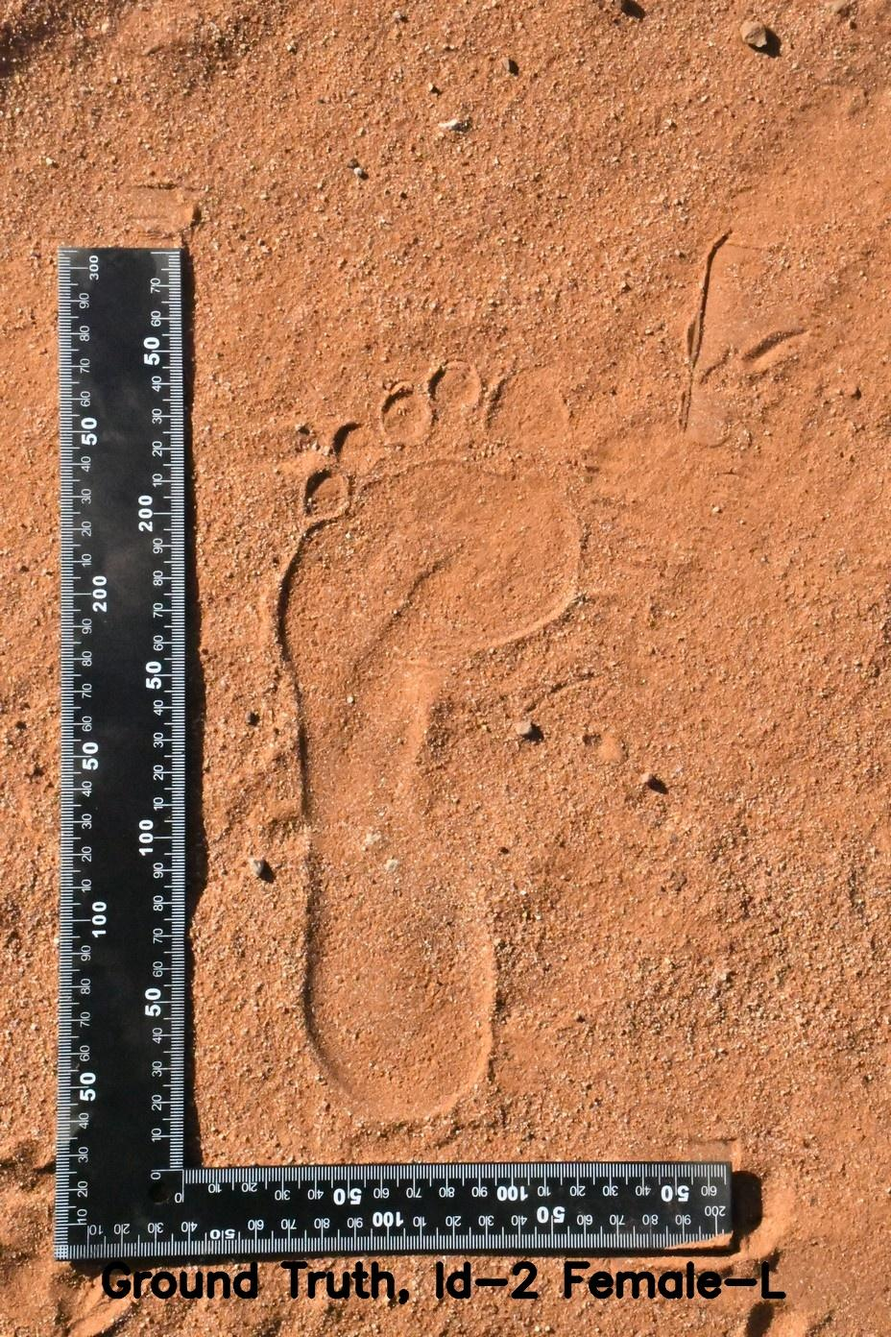human_footprint: (218, 298, 647, 1149)
